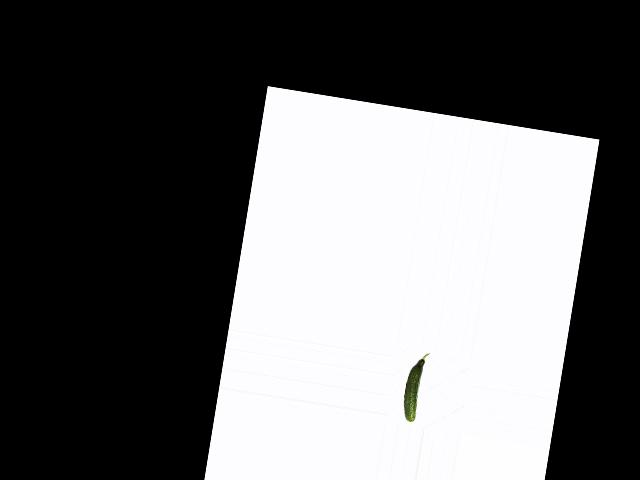cucumber: (400, 349, 429, 422)
